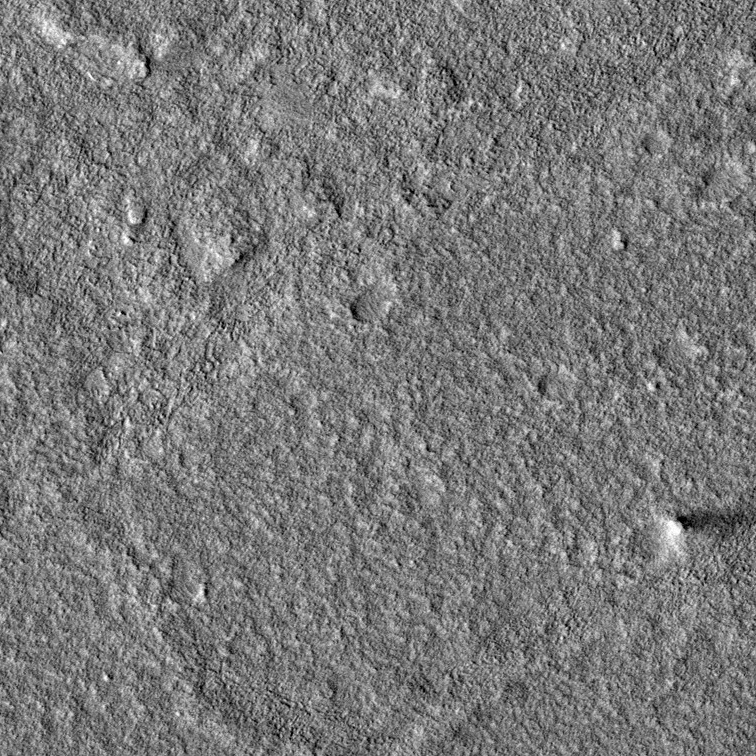dust_devil: (651, 505, 756, 573)
